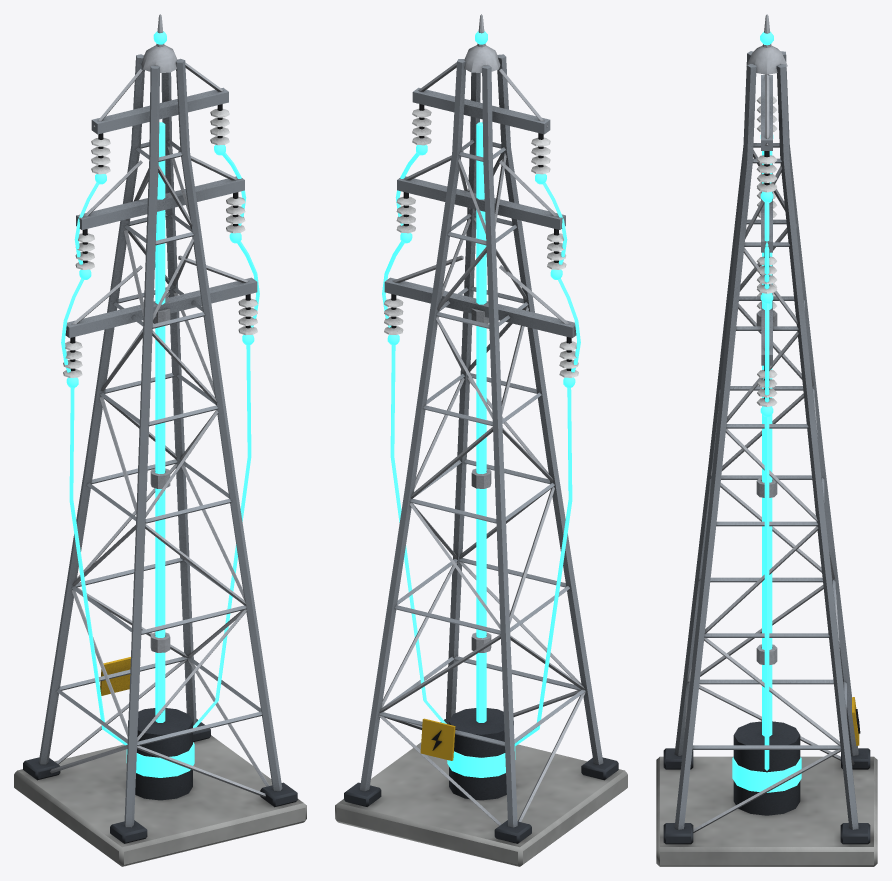
The model's file is torre_energia.fbx.
3 renders of one model, left to right at view 1: azimuth 30°, elevation 25°; view 2: azimuth 150°, elevation 25°; view 3: azimuth 270°, elevation 25°, orthographic.
Visible parts, largest first — view 1: torre_energia, torre_energia_conducto_neon, torre_energia_cables_neon, torre_energia_neon; view 2: torre_energia, torre_energia_conducto_neon, torre_energia_cables_neon, torre_energia_neon; view 3: torre_energia, torre_energia_cables_neon, torre_energia_conducto_neon, torre_energia_neon.
Part boxes in pixels (x1,y1,x2,y2): torre_energia: (14,14,306,866); torre_energia_conducto_neon: (155,122,165,722); torre_energia_cables_neon: (61,152,259,745); torre_energia_neon: (66,31,254,777); torre_energia: (335,14,627,866); torre_energia_conducto_neon: (476,122,486,722); torre_energia_cables_neon: (382,152,580,746); torre_energia_neon: (387,31,575,777); torre_energia: (656,14,877,866); torre_energia_cables_neon: (764,201,769,770); torre_energia_conducto_neon: (762,151,772,736); torre_energia_neon: (732,31,801,792).
Bounding box in the file's own units: 3.17 × 12.08 × 3.
Materials: 2 (2 with a texture image).
